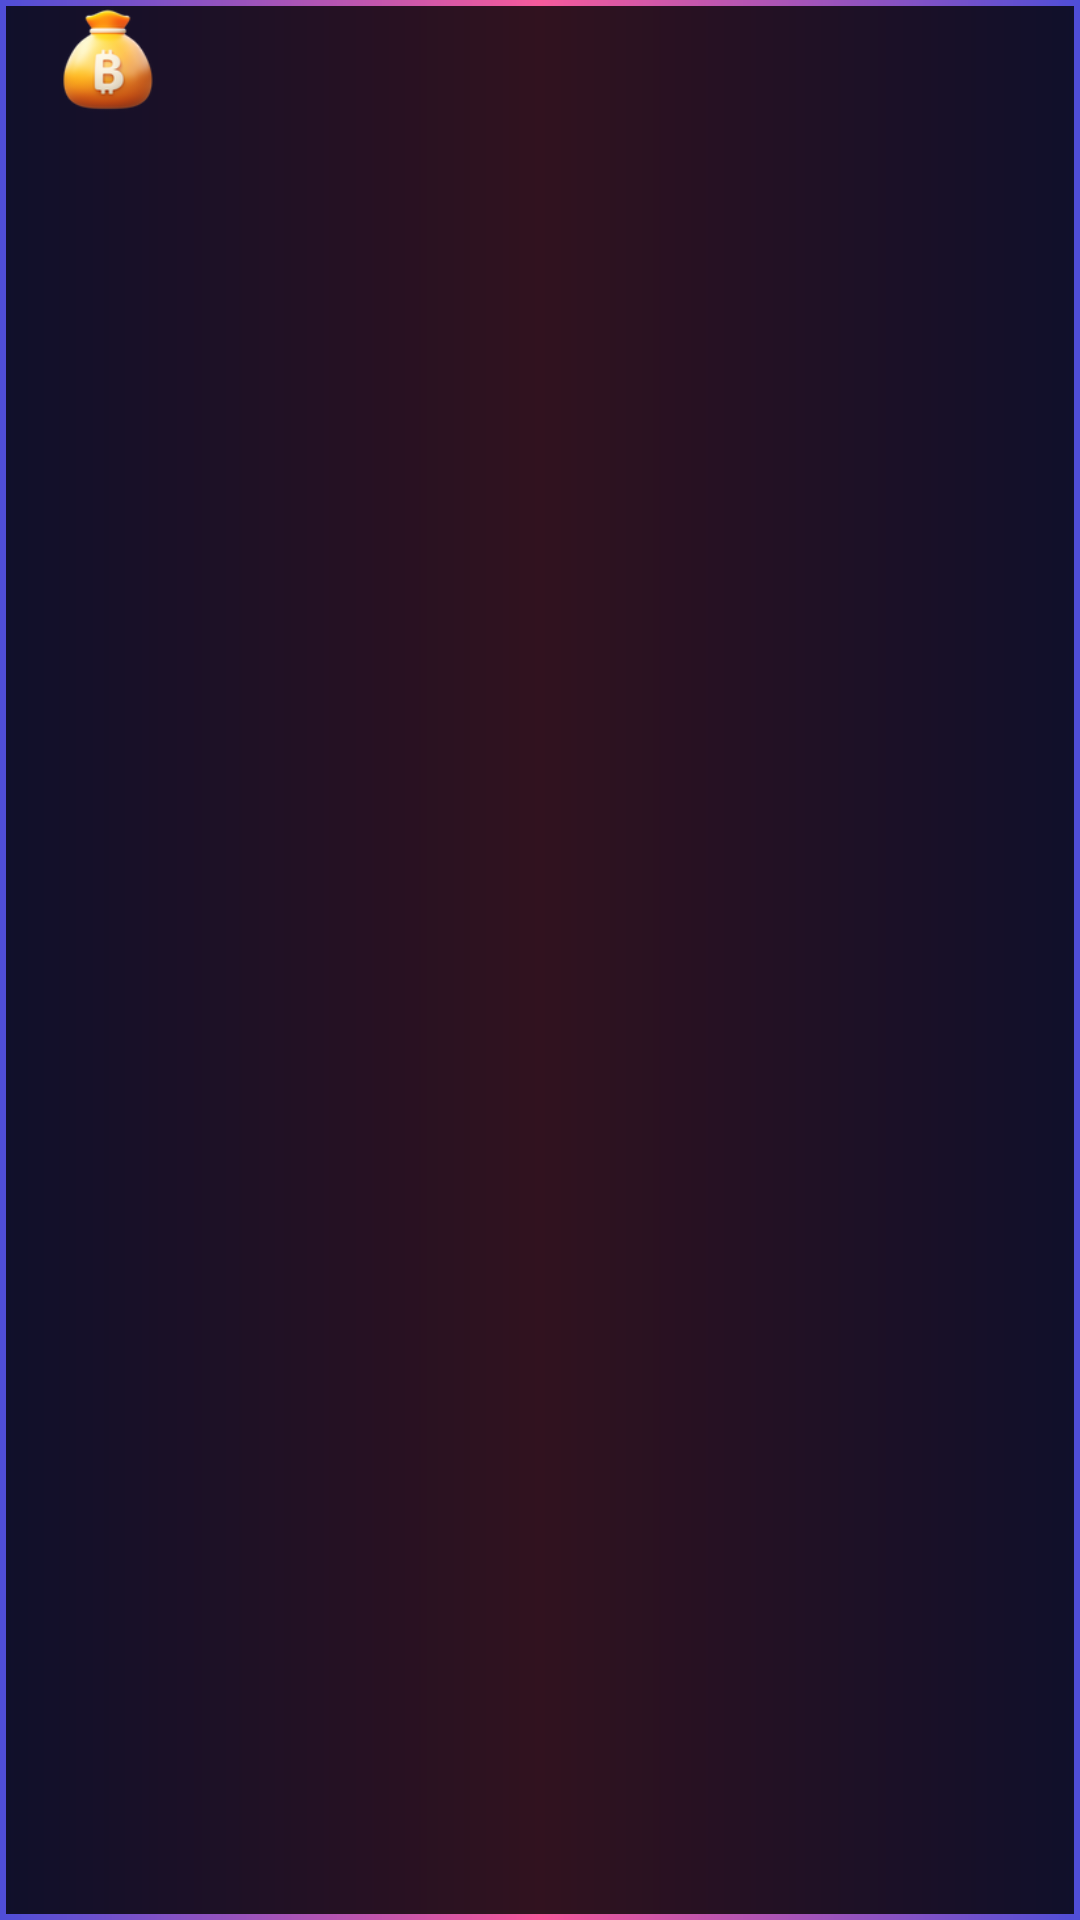

Named icons in this screenshot (1080w x 1920h) and their bounding boxes, BBox(x1, y1, x2, y2):
crypto: BBox(63, 9, 153, 109)
